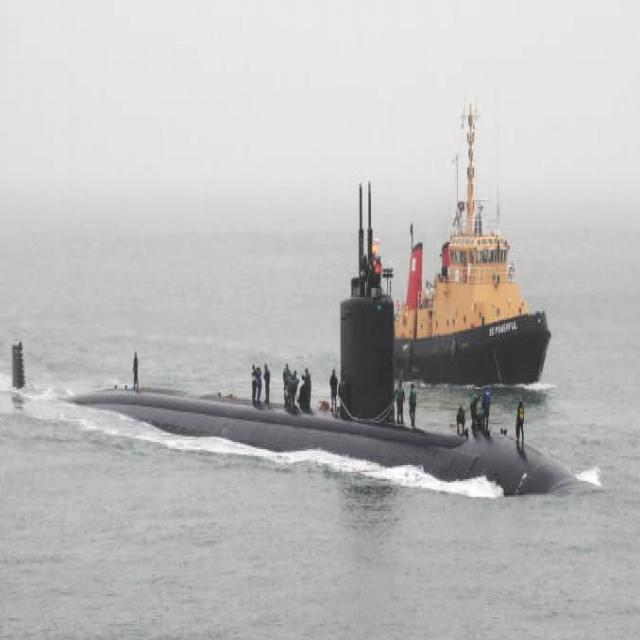submarine: (1, 182, 577, 500)
